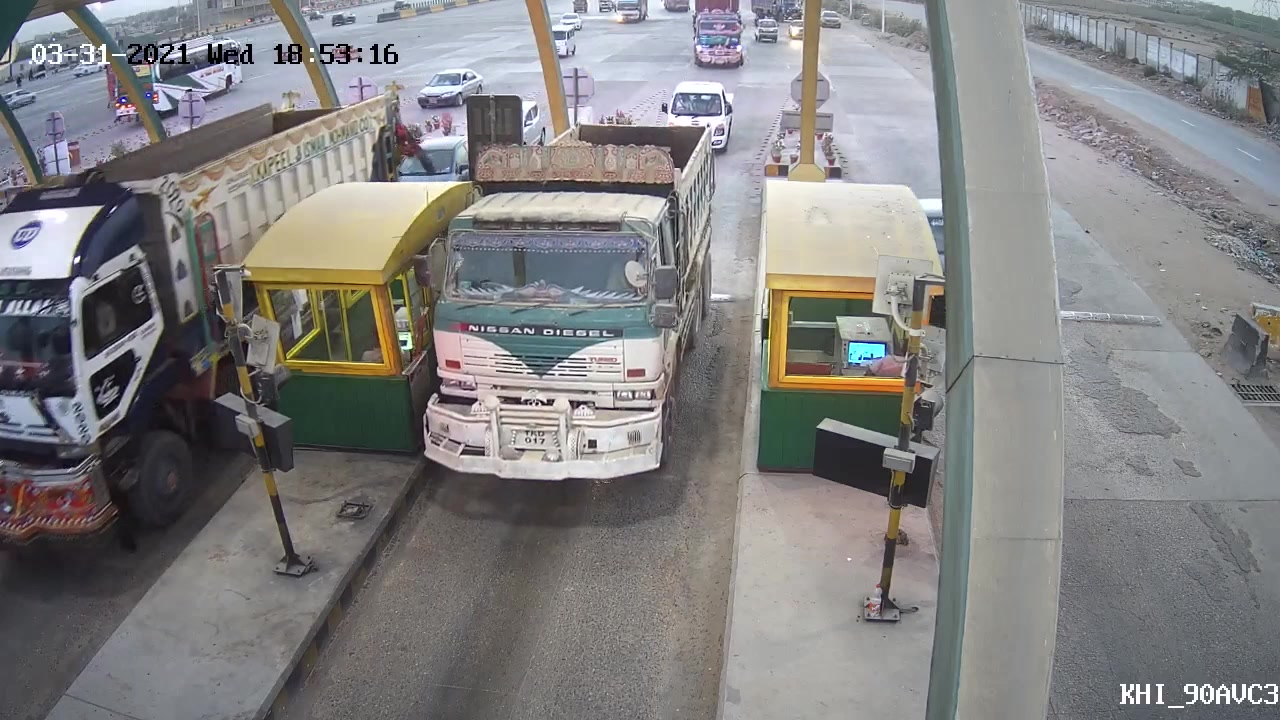F5: (413, 117, 722, 496)
